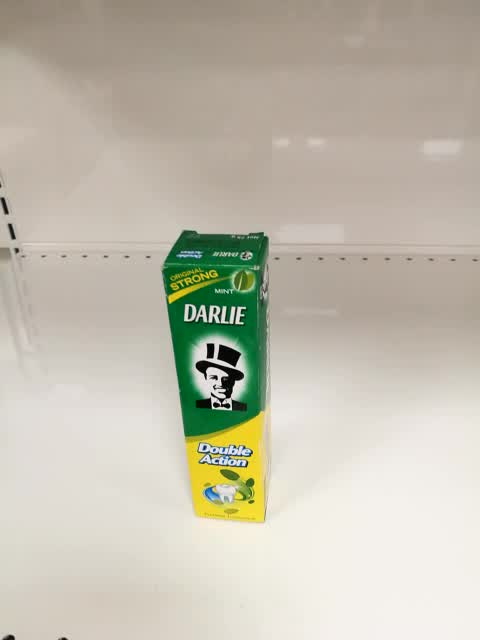toothpaste: (161, 229, 269, 524)
